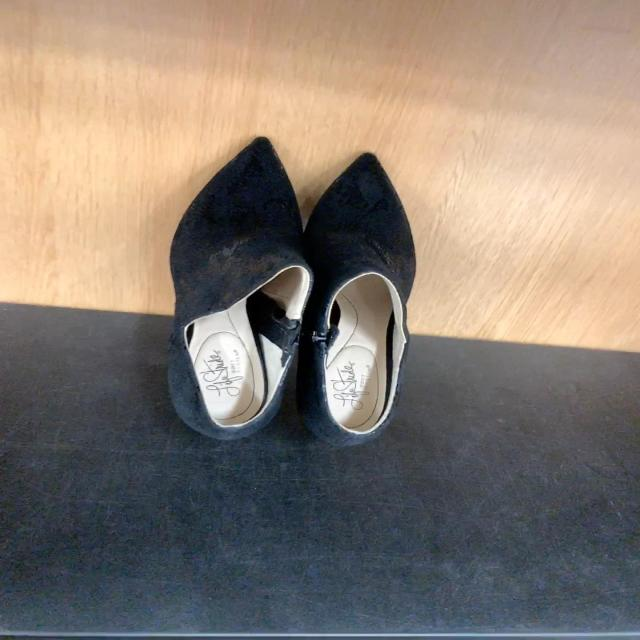shoe: (166, 137, 413, 448)
